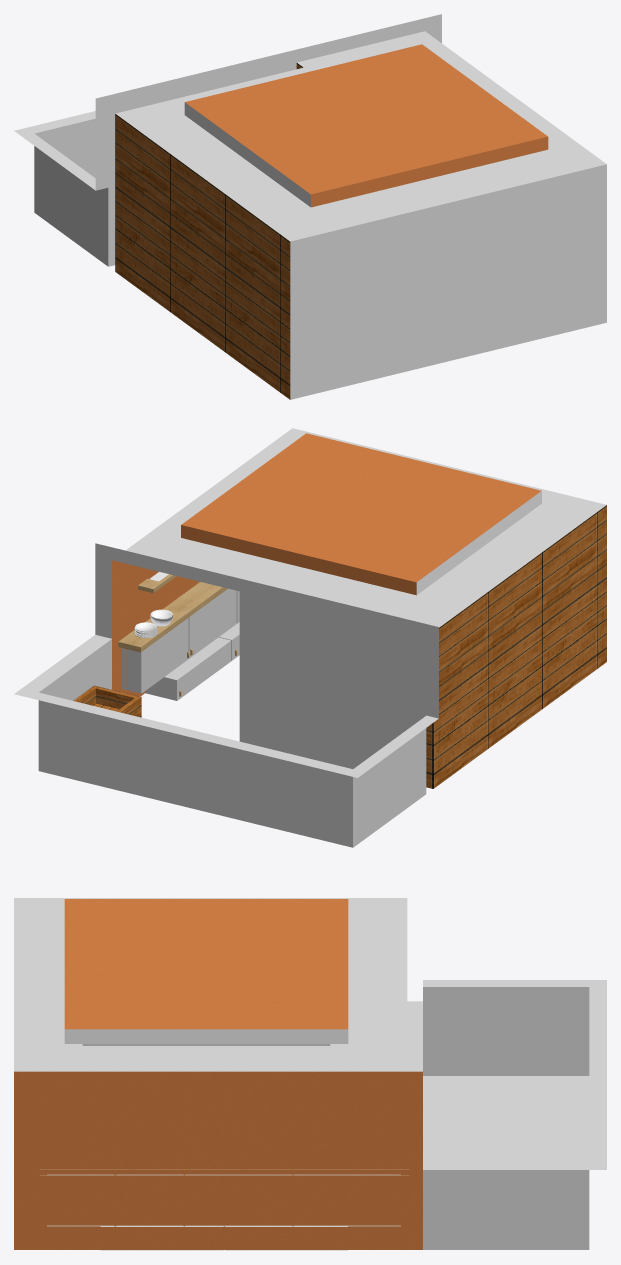
File: room2.obj
The picture shows the model from 3 angles, top to bottom: view 1: azimuth 30°, elevation 25°; view 2: azimuth 150°, elevation 25°; view 3: azimuth 270°, elevation 25°; orthographic projection. The views are drawn at different scales.
Parts seen in each view (by area): view 1: LivingRoom:Box001; view 2: LivingRoom:Box001, LivingRoom:Cabinet, LivingRoom:Box002; view 3: LivingRoom:Box001, LivingRoom:Cabinet.
Boxes of the visible parts, bbox=[...] form: LivingRoom:Box001: bbox=[14, 14, 606, 399]; LivingRoom:Box001: bbox=[14, 428, 606, 847]; LivingRoom:Cabinet: bbox=[118, 582, 239, 700]; LivingRoom:Box002: bbox=[73, 685, 141, 717]; LivingRoom:Box001: bbox=[14, 898, 606, 1249]; LivingRoom:Cabinet: bbox=[40, 1169, 408, 1250].
Size of the model in its own units: 687 by 338 by 905.
8 materials, 5 textured.
